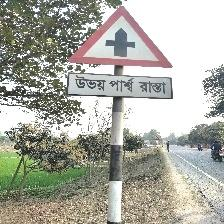Crossroad: (65, 3, 175, 105)
